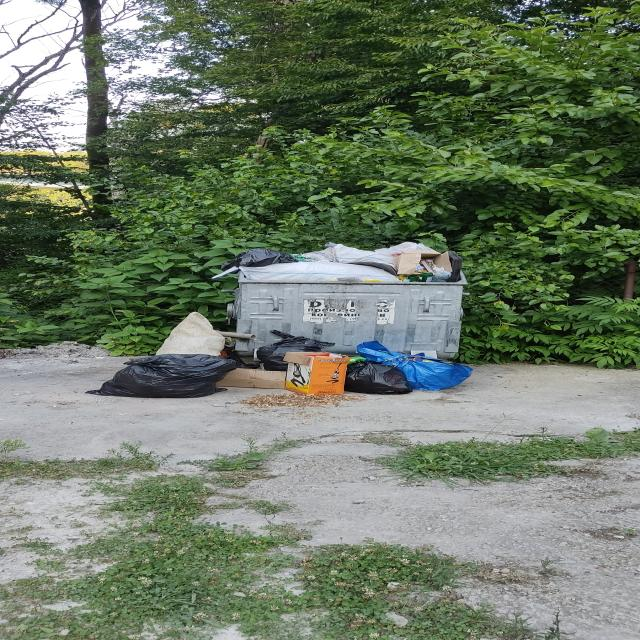bin: (235, 282, 468, 357)
plastic: (81, 309, 484, 400), (216, 242, 466, 282)
